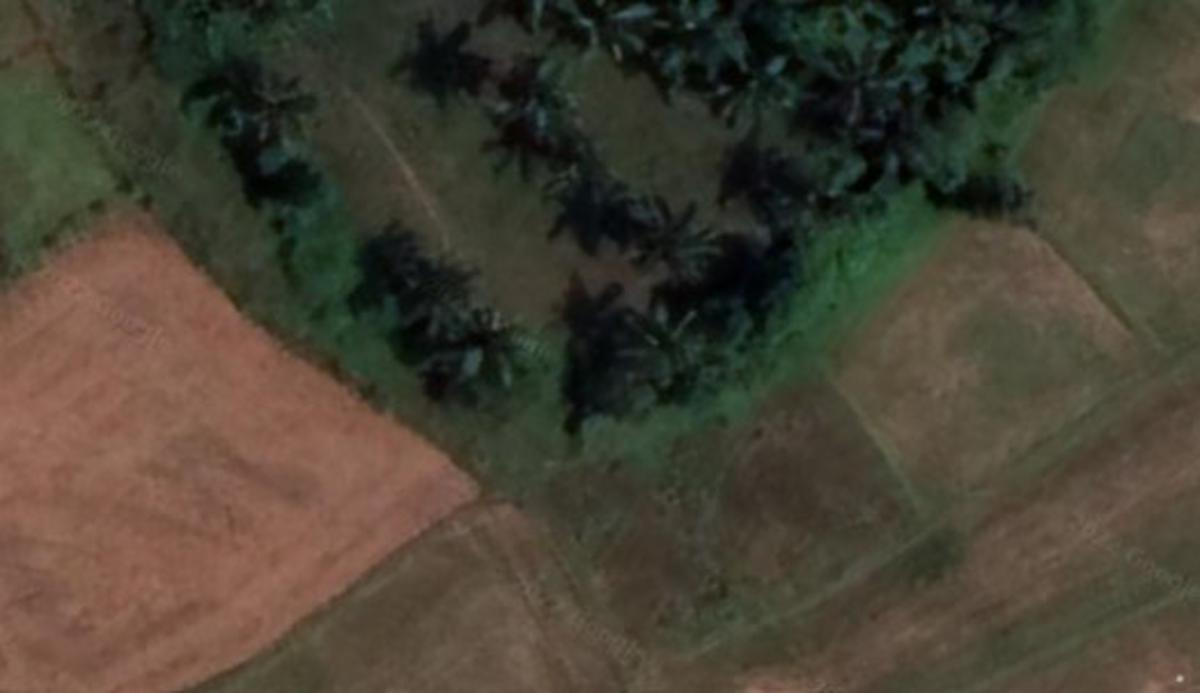coconut: (208, 66, 346, 149), (440, 302, 562, 392), (704, 52, 812, 133), (633, 188, 731, 277), (855, 96, 947, 190), (493, 68, 582, 153), (617, 298, 704, 383)
